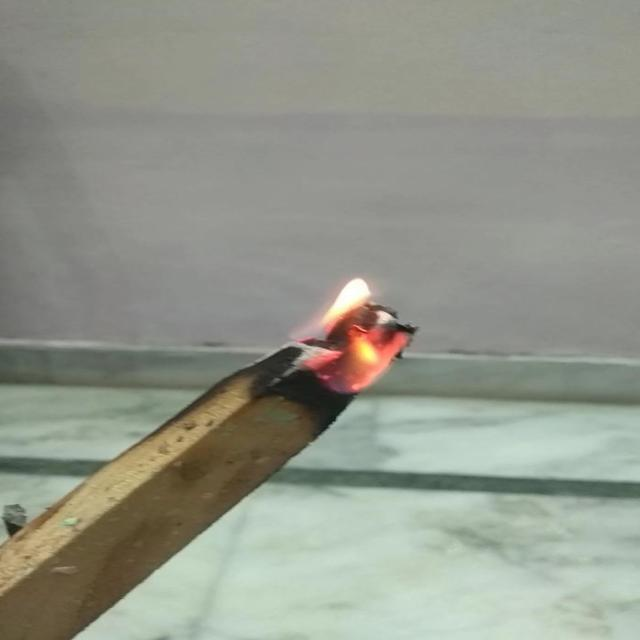smoke: (293, 264, 426, 398)
